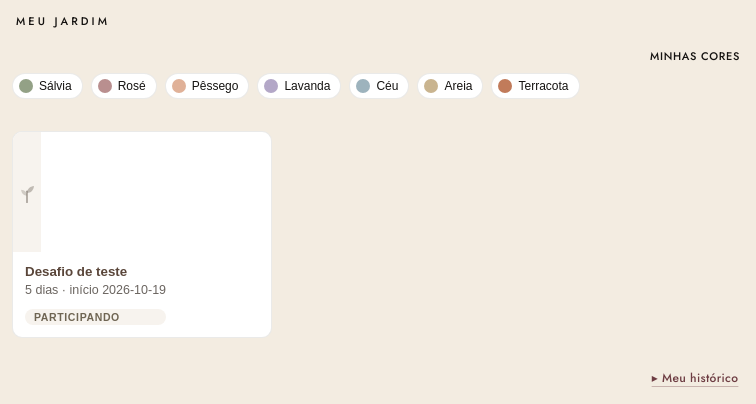
GardenMemberView — Item 5: resumo e "Meu histórico" › busca o histórico só na primeira expansão
Click the button "▸ Meu histórico" at (695, 378), box [652,369,738,387]
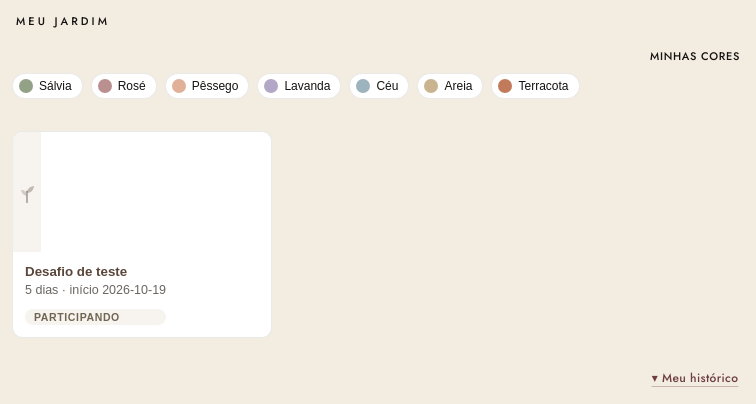
expect the button "▾ Meu histórico" is expanded: met, box [652,369,738,387]
